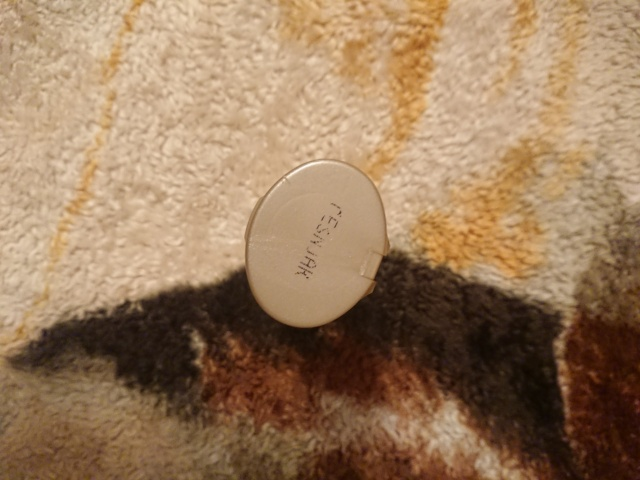Kotanyi Garlic Granules 70g: (241, 156, 393, 331)
